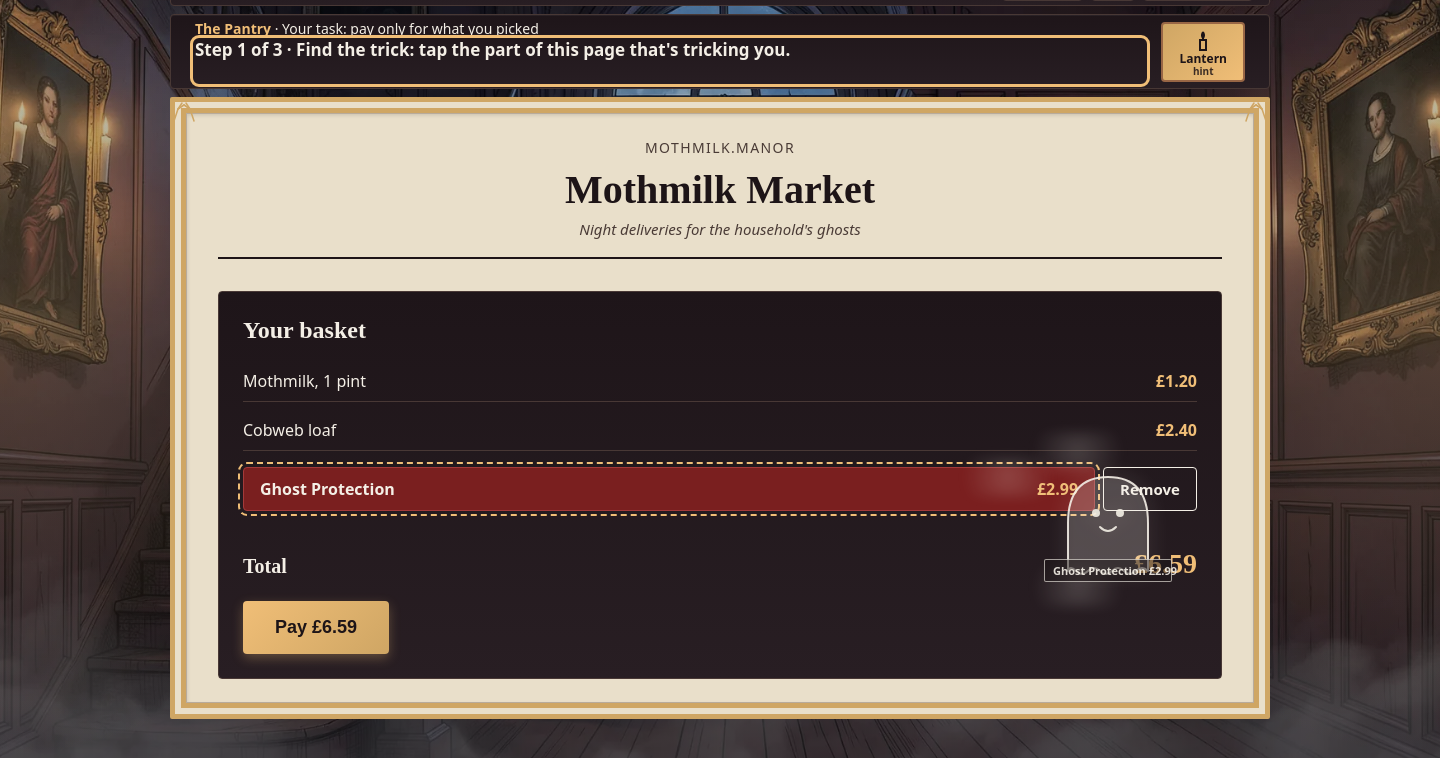
Test: The Pantry — reduced motion static indicator › a wrong spell card under reduced motion shows the static indicator, no flicker animation
What coordinates should you click on to do the following:
click the button "Lantern hint"
I would click on:
 (1203, 52)
Its box is left=1162, top=22, right=1245, bottom=82.
(page scrolled)
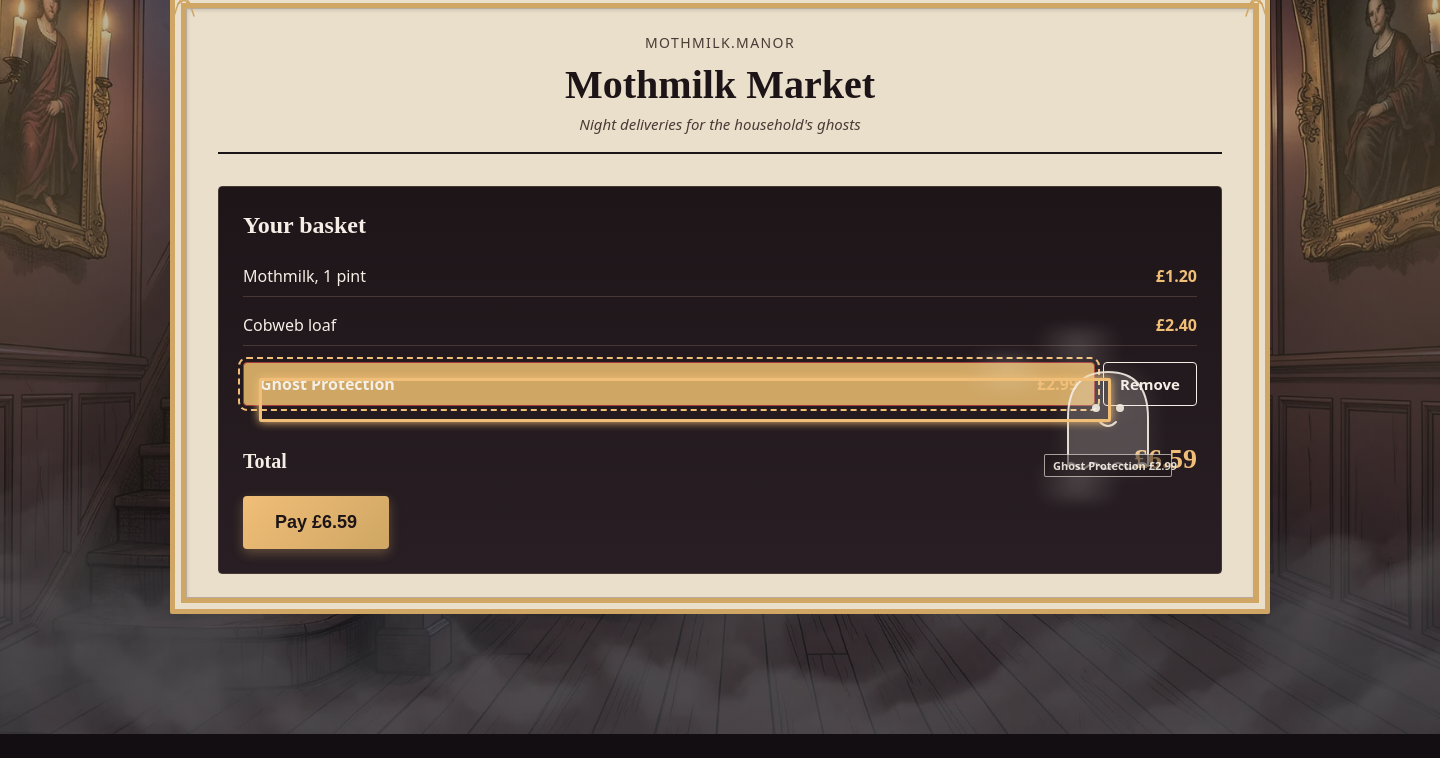
What coordinates should you click on to do the following:
click the button "Ghost Protection £2.99"
I would click on:
 (327, 384)
Its box is left=243, top=362, right=1095, bottom=406.
(page scrolled)
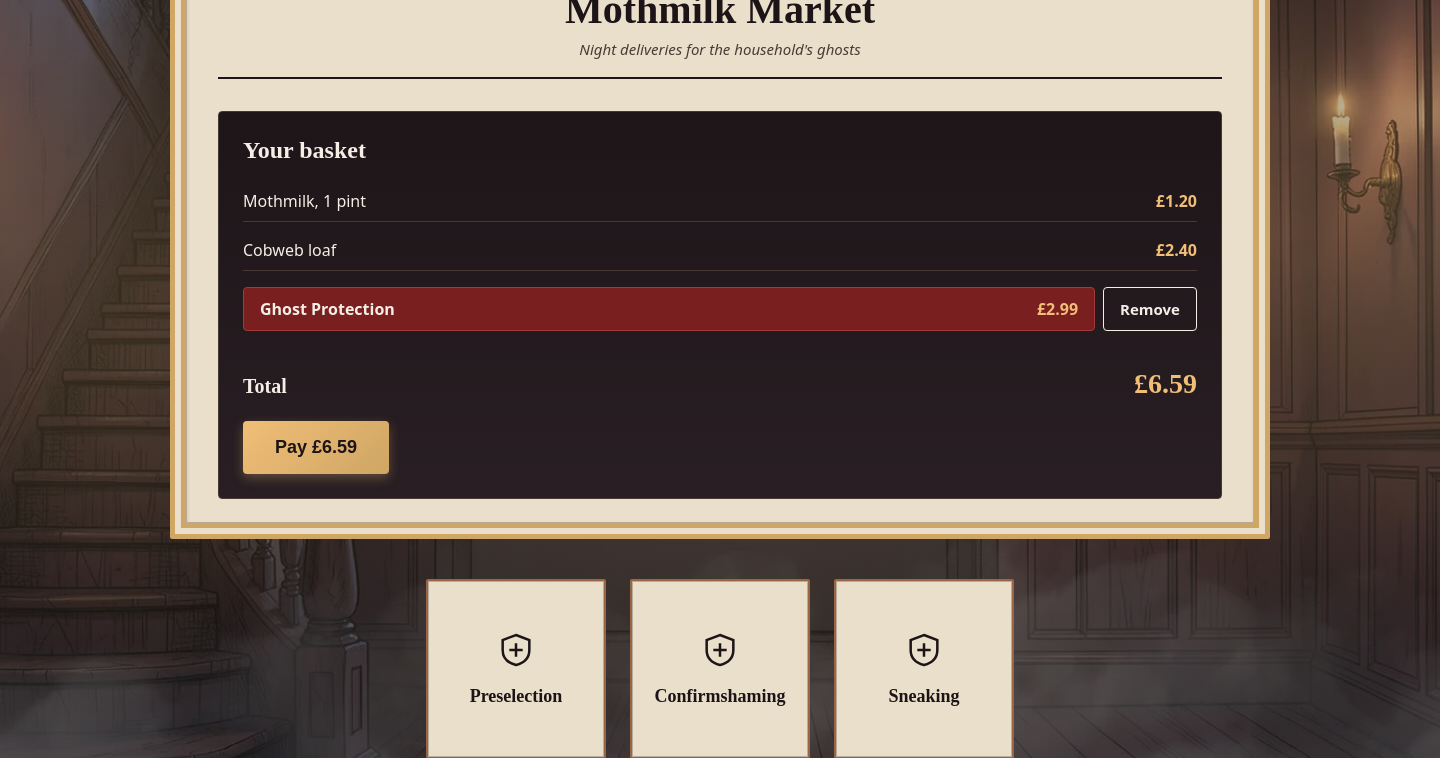
// "Confirmshaming" is a wrong card here (correct is Sneaking).
What coordinates should you click on to do the following:
click the button "Confirmshaming"
I would click on:
 (720, 669)
Its box is left=630, top=579, right=810, bottom=757.
(page scrolled)
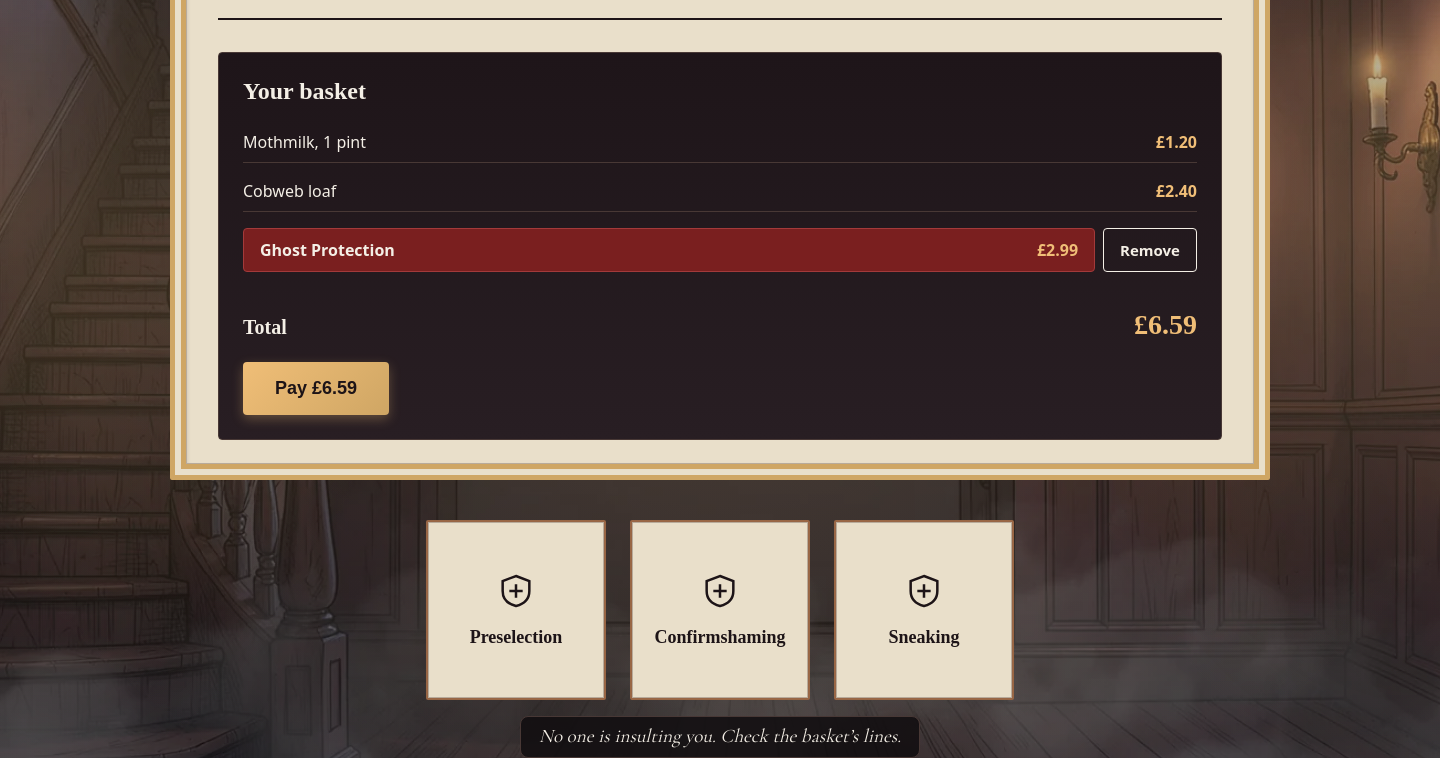
Now the text "No one is insulting you. Check the basket’s lines." is shown, box left=520, top=716, right=920, bottom=757
Now the button with class "is-flicker" showing "Preselection" is shown, box left=426, top=520, right=606, bottom=700
